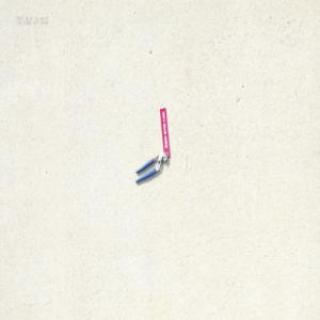LuggageTagtrack_idkeyframe: (158, 106, 169, 158)
Pliertrack_idkeyframe: (134, 150, 167, 183)
